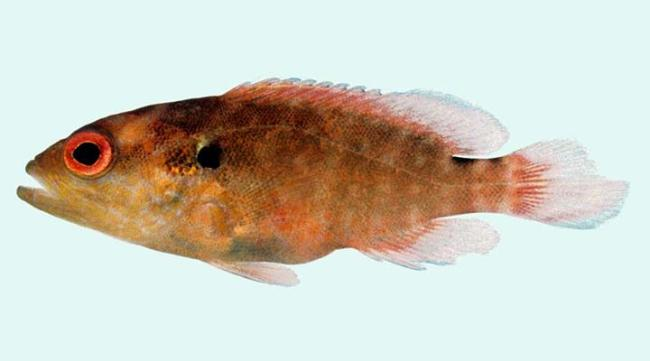fish: (18, 79, 630, 287)
